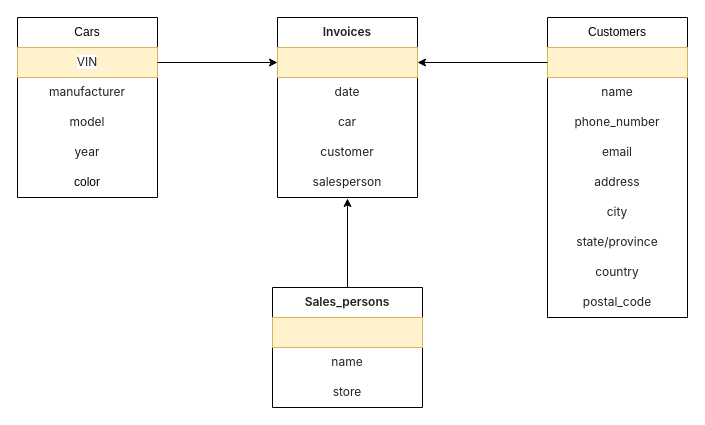
Some shapes in this 705 by 425 pixel diagram are drawn without their labels. Each missing label, with the centre of its shape:
CustomerID: (617,62)
Invoice_number: (347,62)
StaffID: (347,332)
